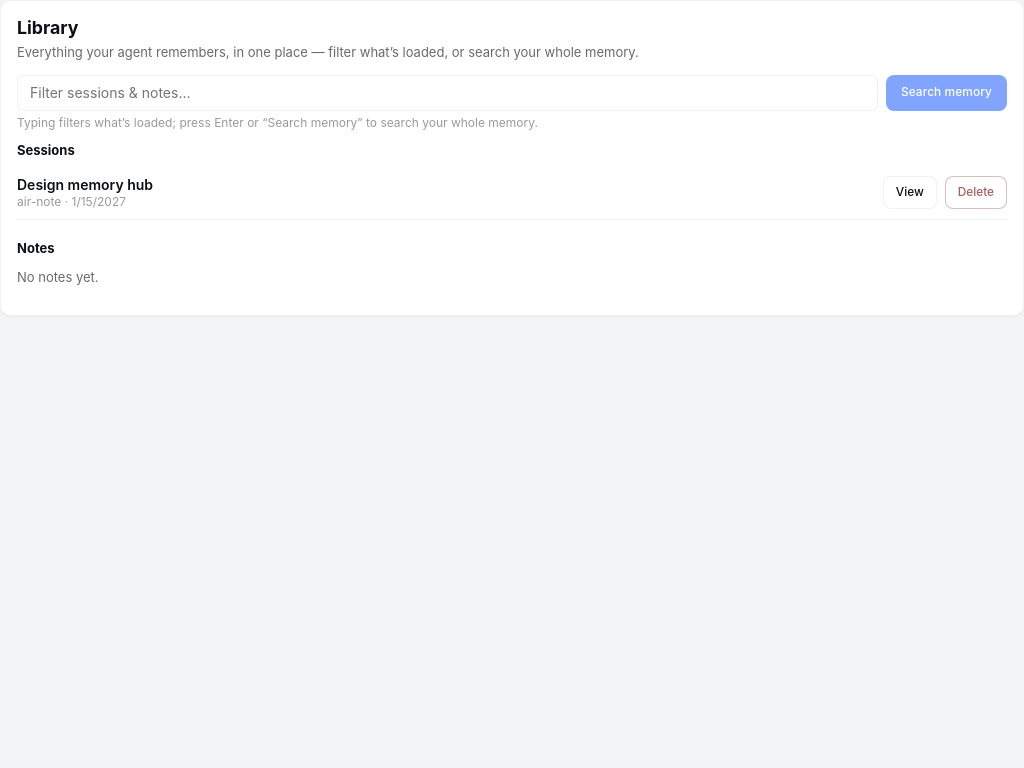
Test case: LibraryPanel › renders session markdown as literal text — HTML/script content never becomes markup
The width and height of the screenshot is (1024, 768).
Expected: the text "Design memory hub" is shown, [17, 176, 153, 194]
What coordinates should you click on to do the following:
click the button "View"
I would click on:
 (910, 192)
Its box is [883, 176, 937, 209].
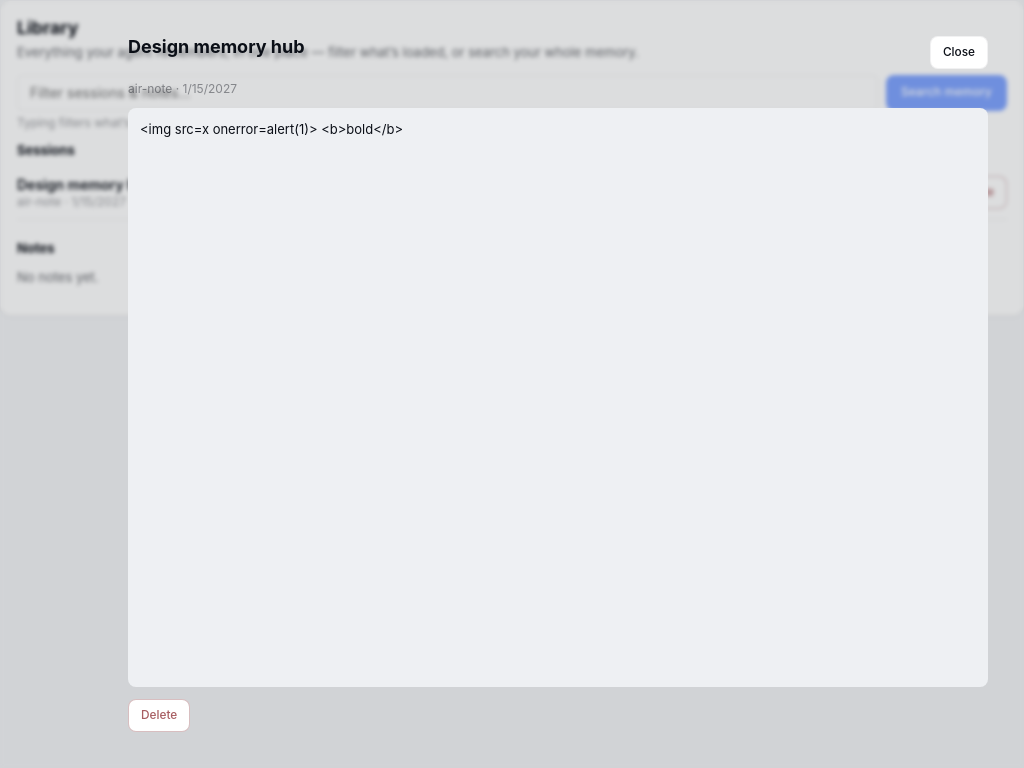
Expected: the text "<img src=x onerror=alert(1)> <b>bold</b>" is shown
